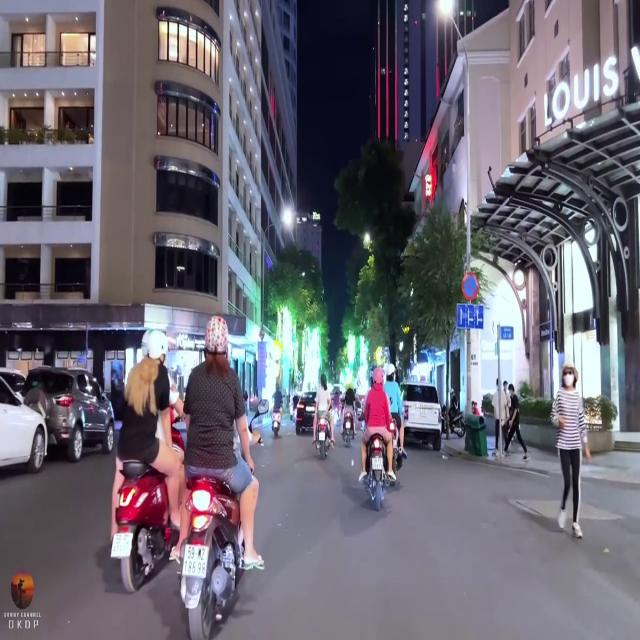bien_trang: (184, 544, 209, 583)
